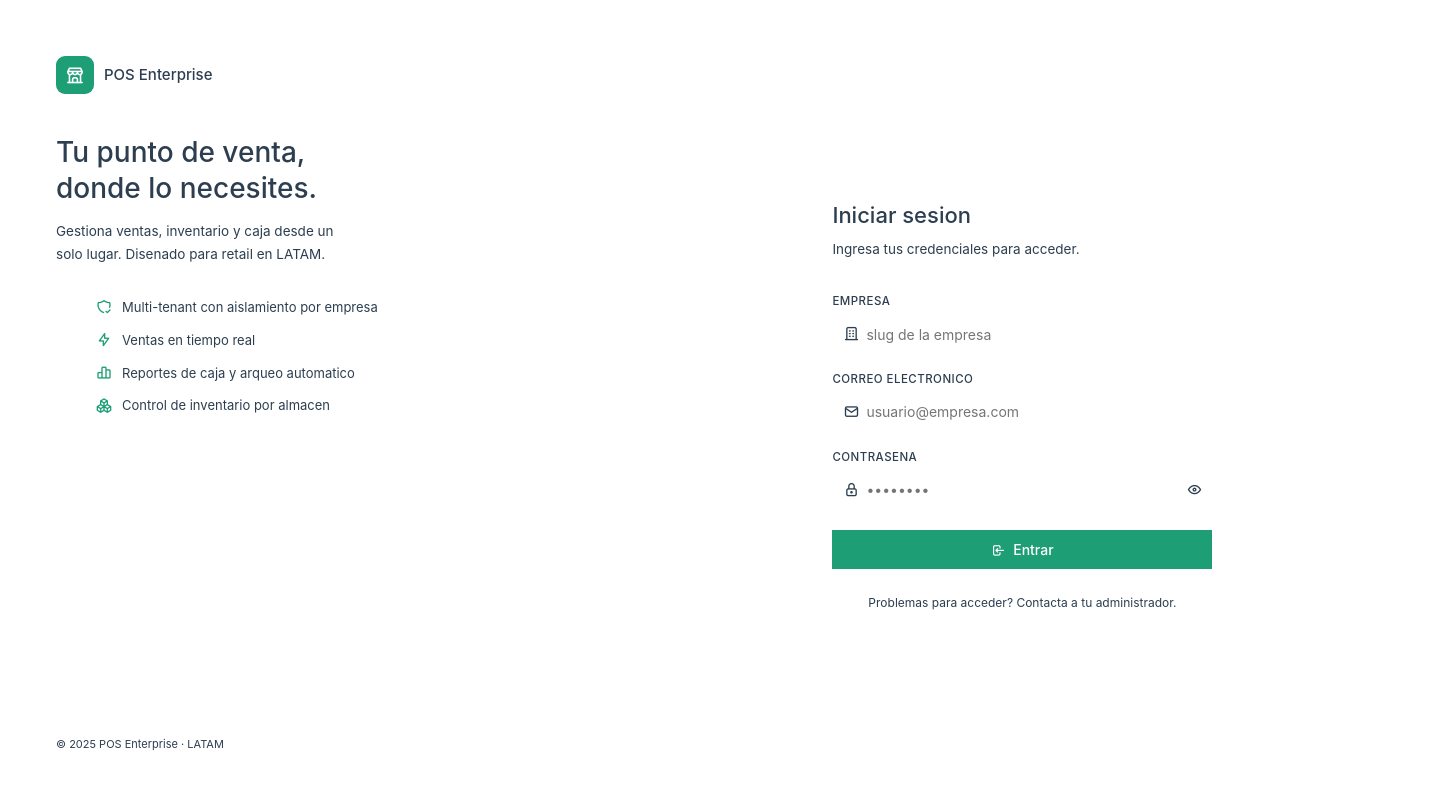
Test: LoginView › muestra error de correo invalido tras tocar el campo
Type "no-es-correo" into the field with id "lv-email".
click(1022, 412); type("no-es-correo")  # box [832,394,1212,430]
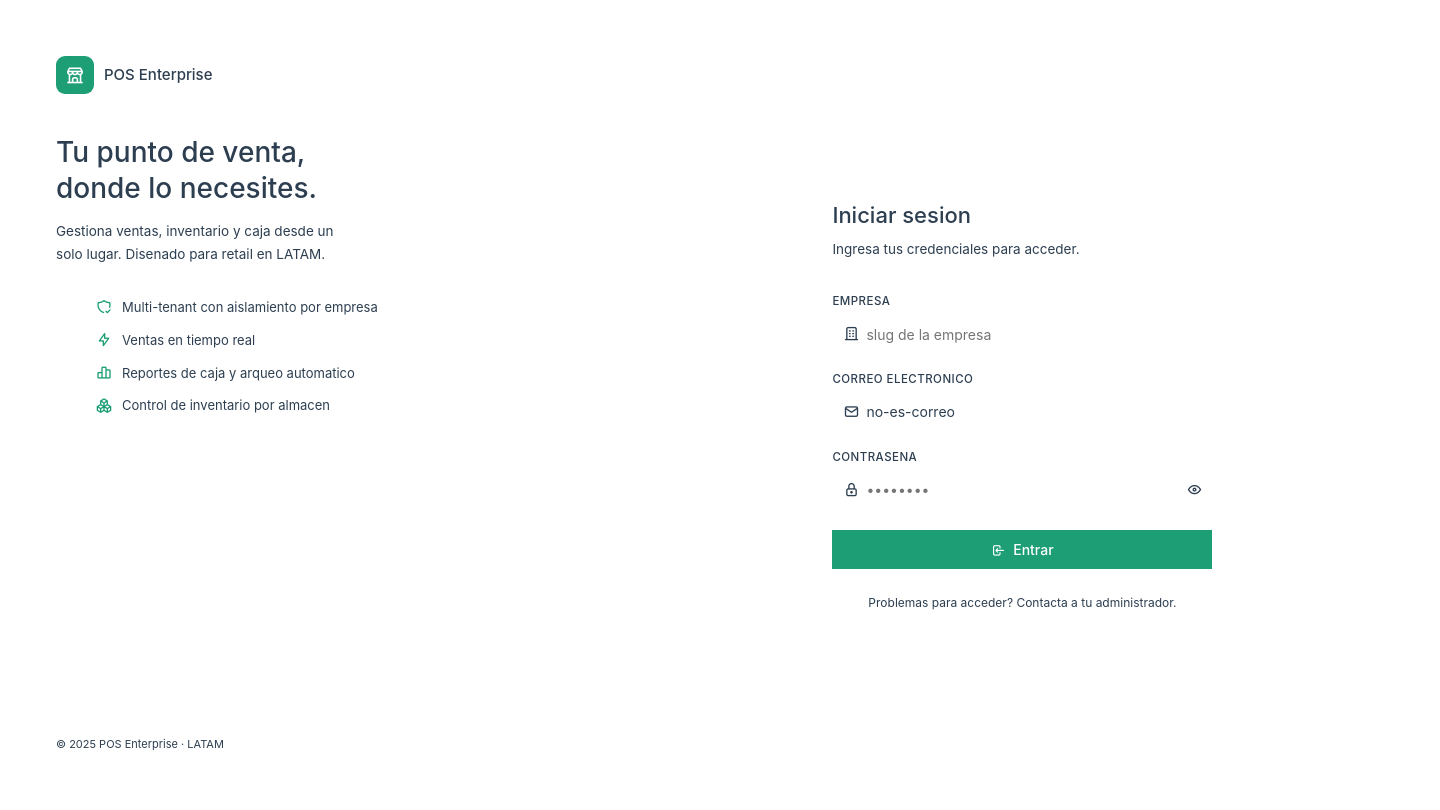
Leave the field with id "lv-email", box [832,394,1212,430]
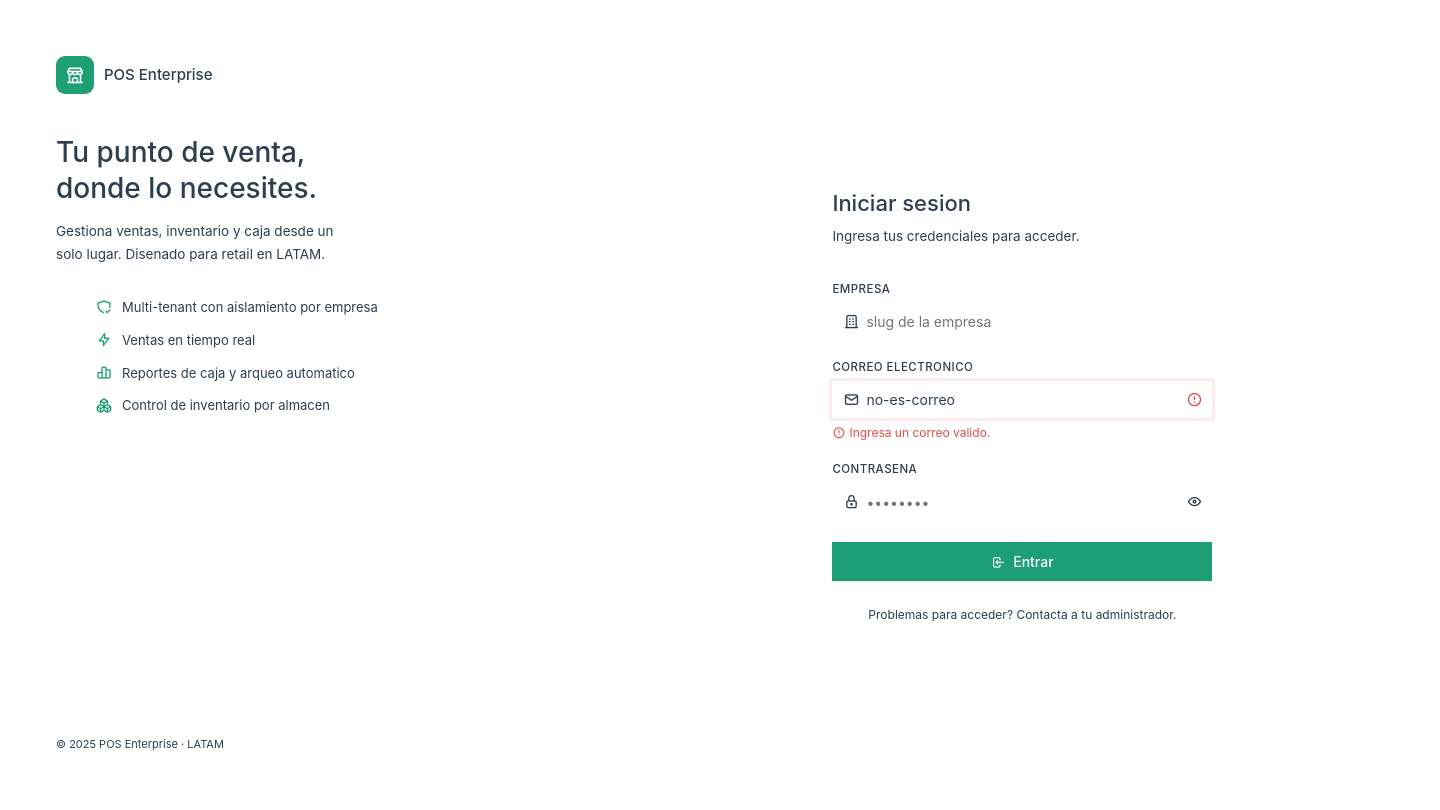
expect the text "Ingresa un correo valido" is shown: met, box [849,425,990,440]
